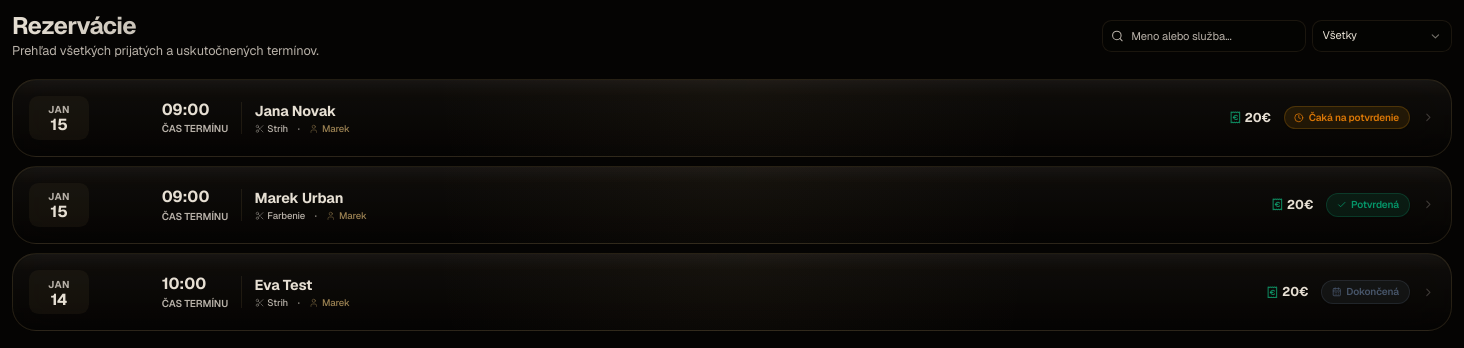
Test: AppointmentsPage › filters cards by customer name
Type "Marek" into the field with placeholder "Meno alebo služba..." at coordinates (1204, 36), box left=1102, top=20, right=1306, bottom=52
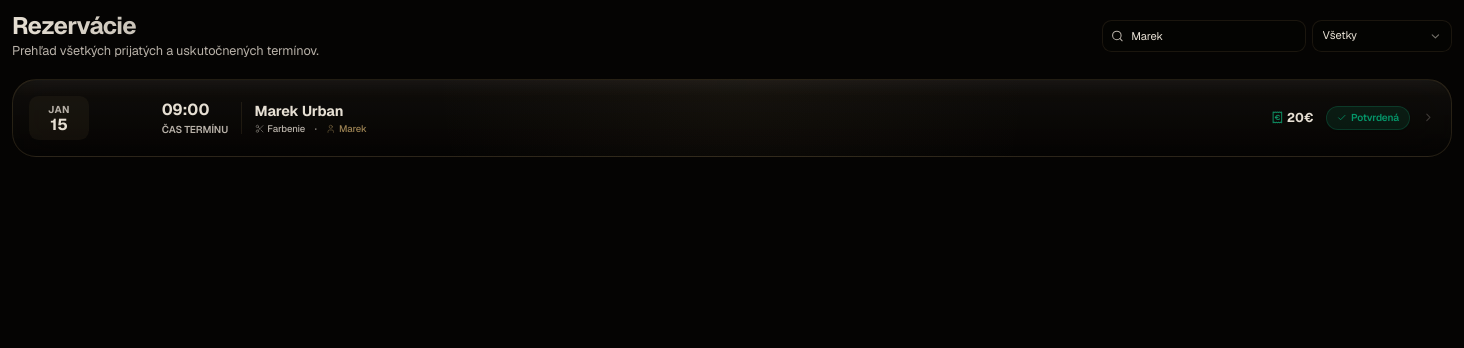
Check: the button "Jana Novak" is gone
